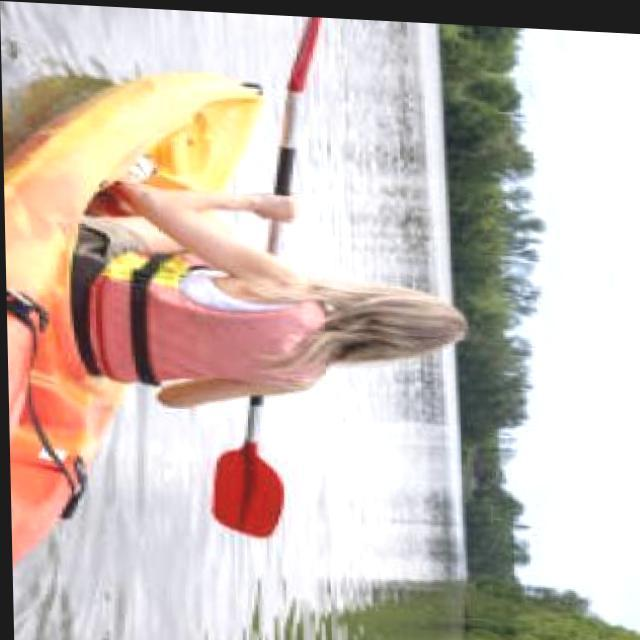kayak: (3, 71, 296, 566), (3, 72, 265, 565), (3, 71, 263, 565)
